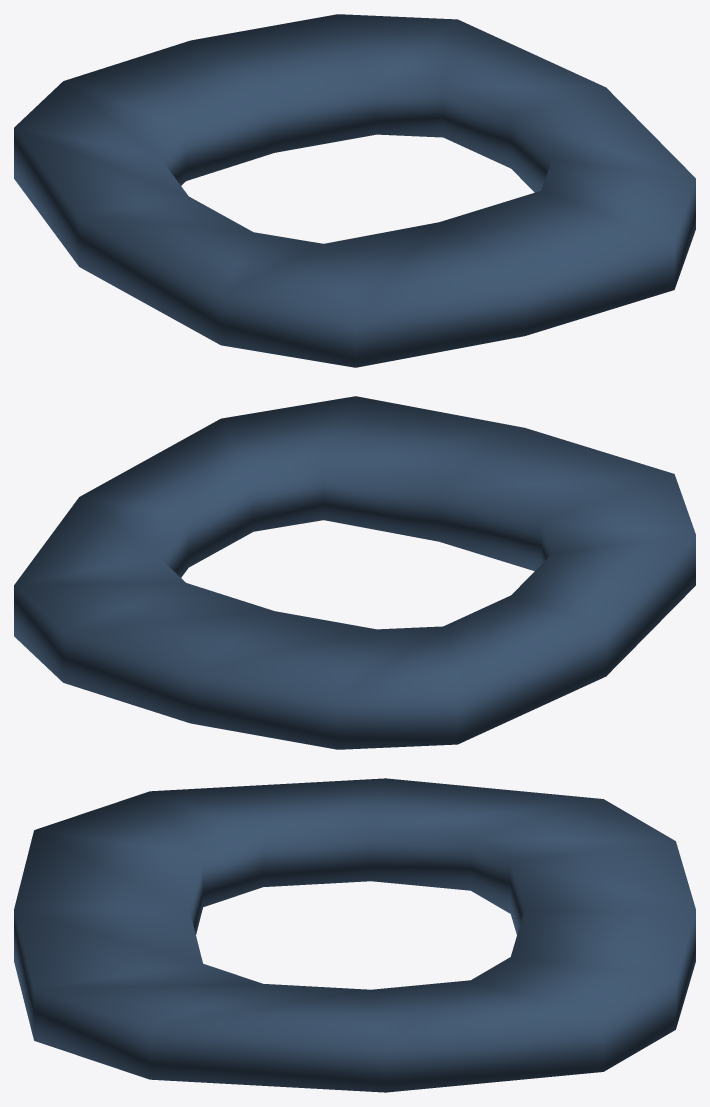
The model's file is ChainLinkRoot.fbx.
The picture shows the model from 3 angles, top to bottom: view 1: azimuth 30°, elevation 25°; view 2: azimuth 150°, elevation 25°; view 3: azimuth 270°, elevation 25°; orthographic projection.
Visible parts, largest first — view 1: Strapping.003; view 2: Strapping.003; view 3: Strapping.003.
Boxes of the visible parts, x1,y1,x2,y2 form: Strapping.003: [14, 14, 695, 367]; Strapping.003: [14, 396, 695, 749]; Strapping.003: [14, 778, 695, 1092].
Size of the model in its own units: 81.11 by 7.49 by 89.14.
